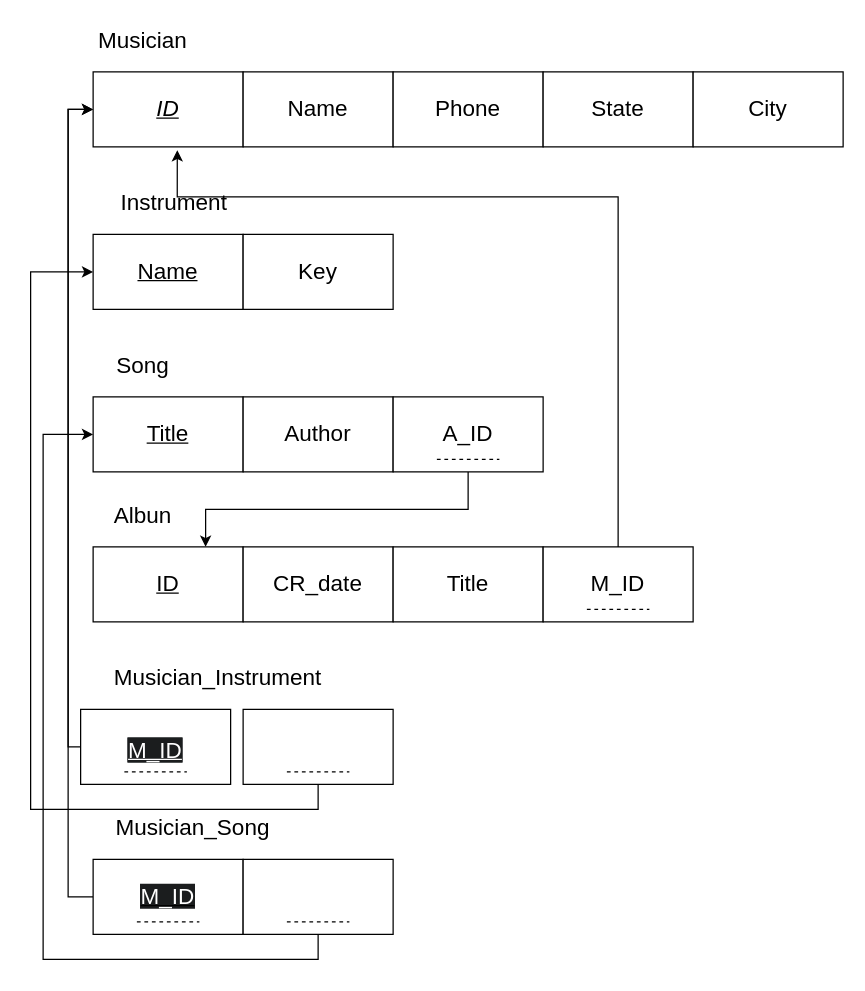
The diagram is 865 pixels wide and 991 high, and some of its shapes have lost their labels. Each missing label, with the centre of its shape:
"I_Name" goes at point (317, 746).
"sont_title" goes at point (317, 896).
